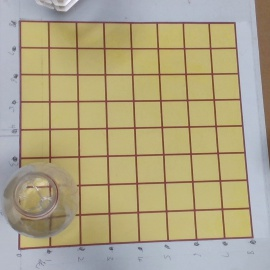bottle: (3, 164, 79, 237)
